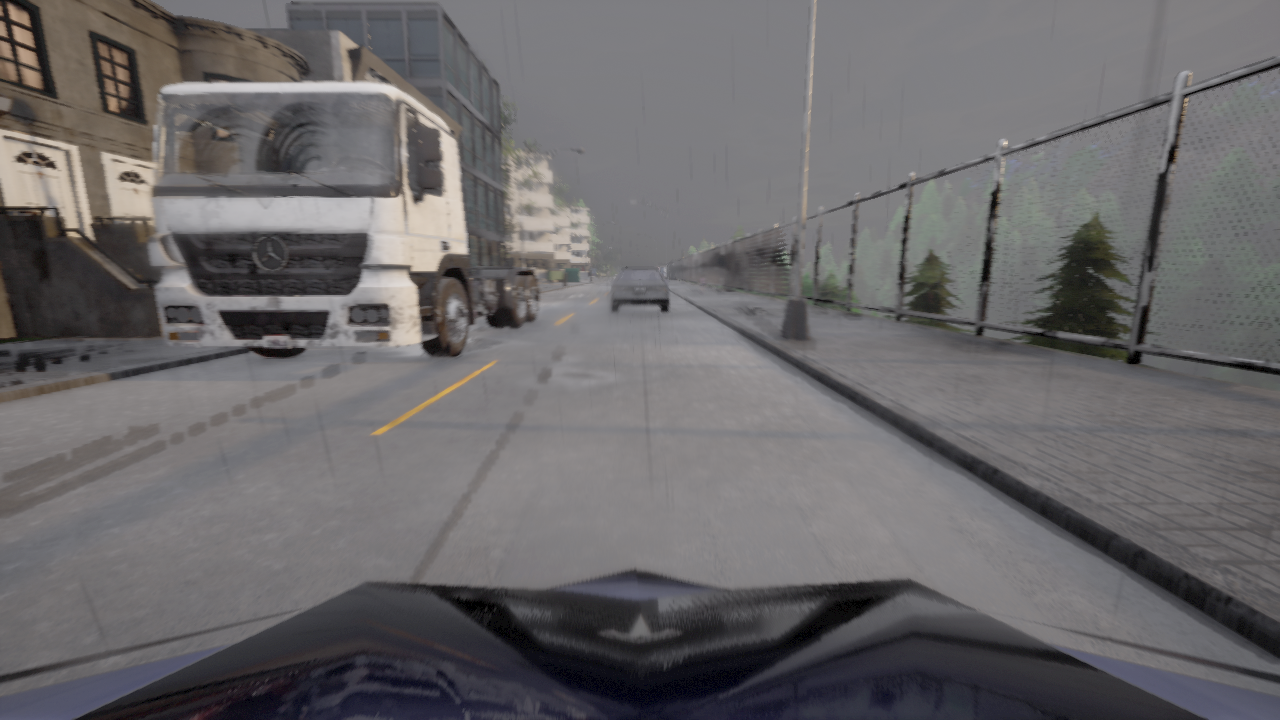cyclist: (0, 569, 1279, 719), (148, 82, 540, 358), (611, 267, 668, 312)
pedestrian: (699, 274, 705, 293)
